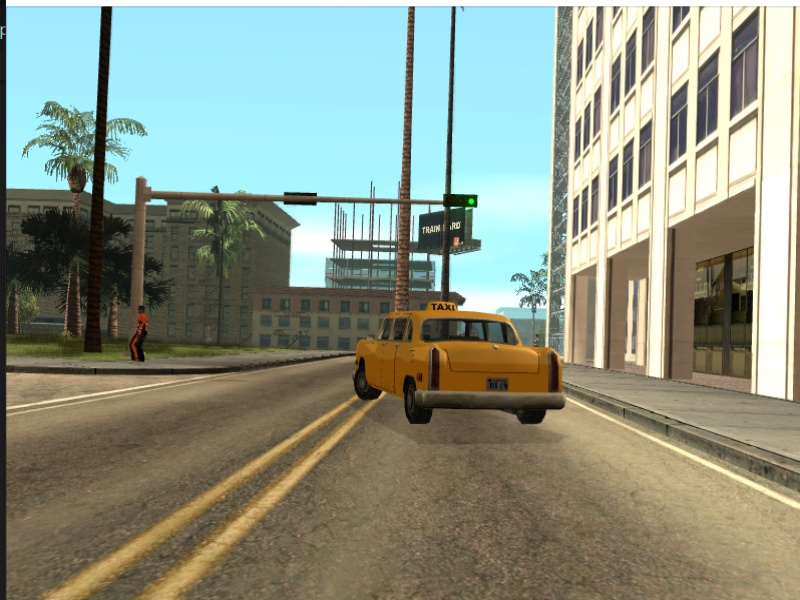person: (129, 306, 152, 359)
pole: (128, 176, 148, 342)
tree: (82, 10, 112, 351), (392, 8, 416, 311), (438, 3, 455, 301)
vehicle: (352, 301, 569, 431)
